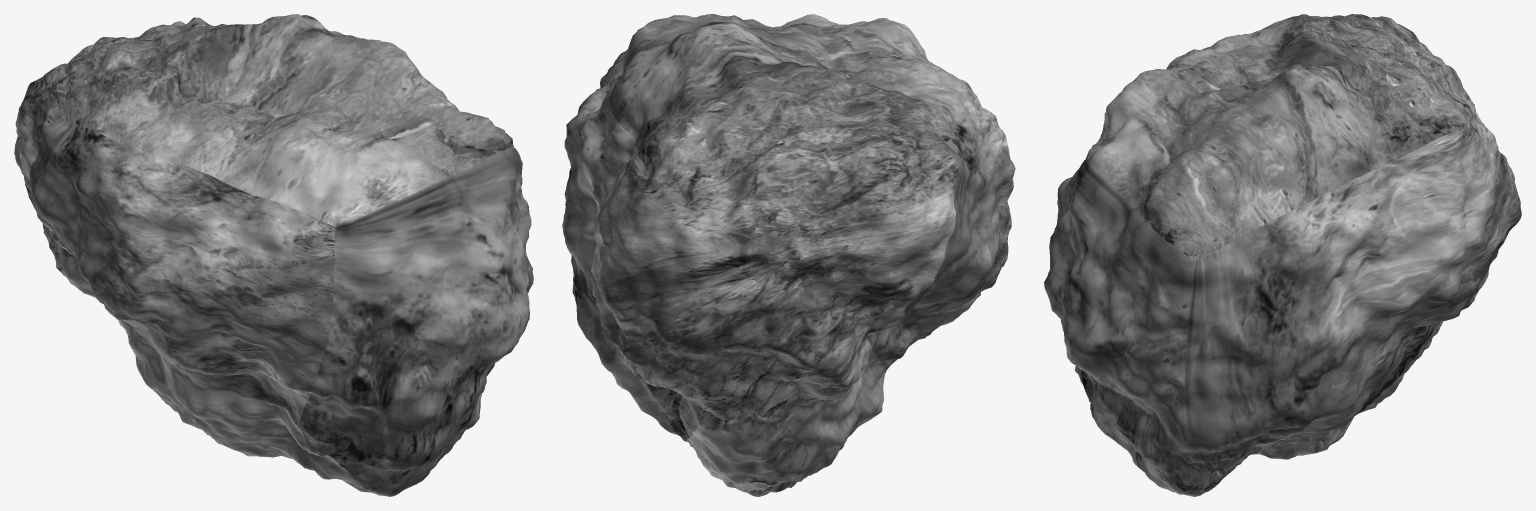
Rendered from MeteLuna.glb.
3 renders of one model, left to right at view 1: azimuth 30°, elevation 25°; view 2: azimuth 150°, elevation 25°; view 3: azimuth 270°, elevation 25°, orthographic. The views are drawn at different scales.
Visible parts, largest first — view 1: Cube; view 2: Cube; view 3: Cube.
Part boxes in pixels (bbox=[...]): Cube: bbox=[14, 14, 533, 496]; Cube: bbox=[562, 14, 1015, 496]; Cube: bbox=[1044, 14, 1521, 496].
Bounding box in the file's own units: 1.6 × 1.59 × 1.71.
Materials: 1 (1 with a texture image).
